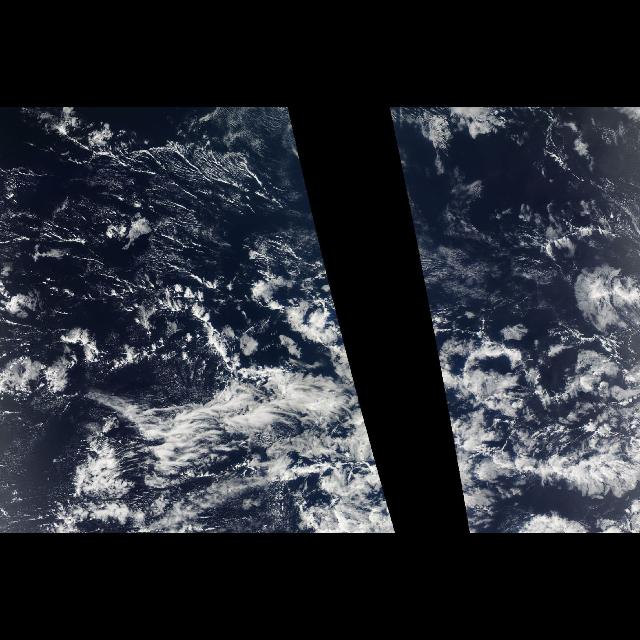Fish: (63, 329, 397, 533), (432, 329, 640, 533)
Gravel: (89, 144, 263, 322)
Sugar: (11, 115, 272, 322)
